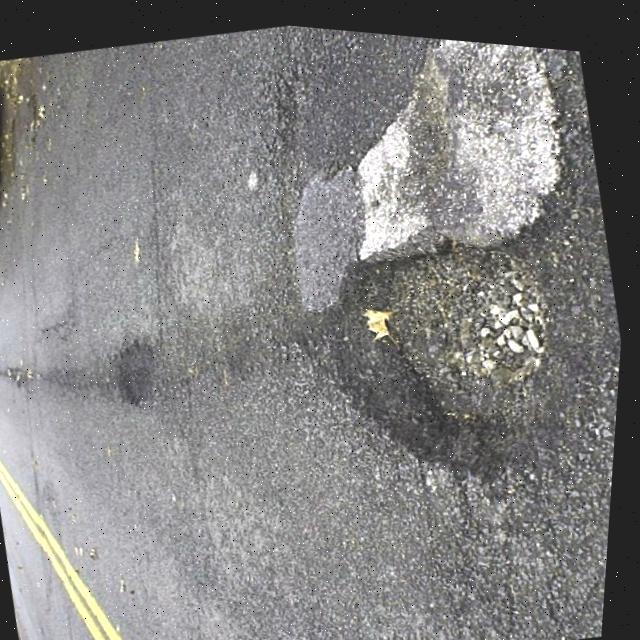pothole: (306, 199, 602, 496), (101, 325, 181, 414)
